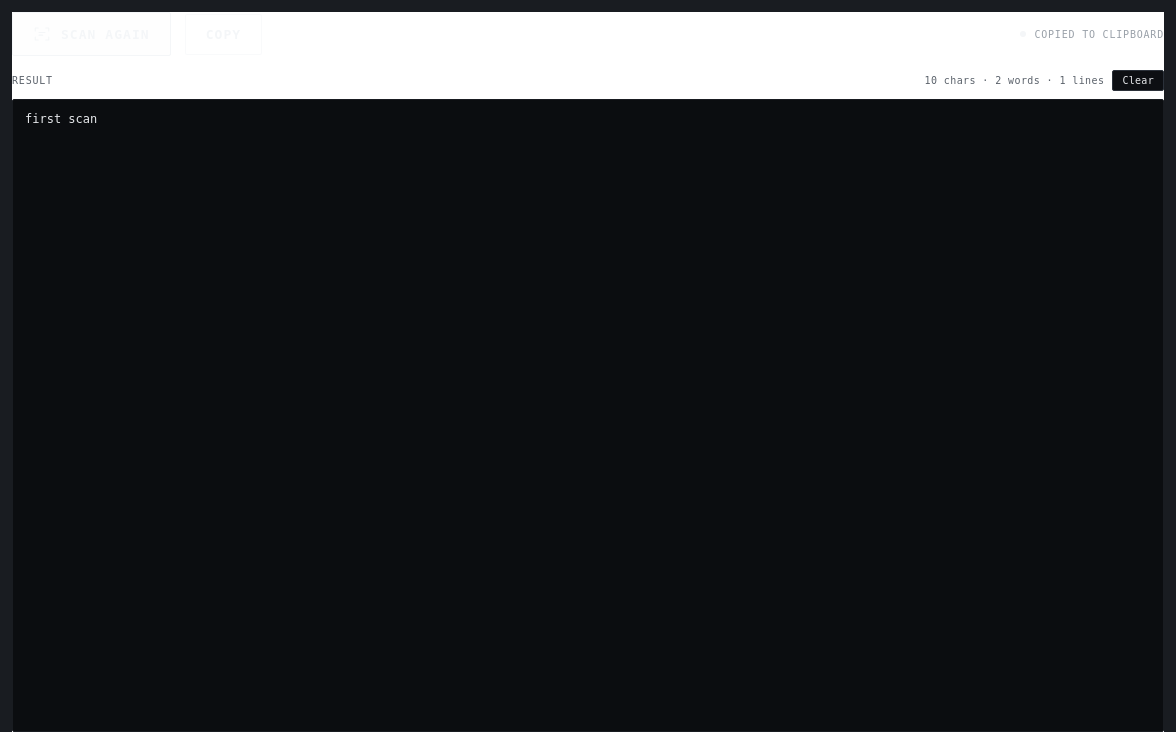
it: OcrPanel clearing › drops a pending prompt when a new scan lands
The width and height of the screenshot is (1176, 732).
Click the button "Clear" at (1138, 80), box [1112, 70, 1164, 91]
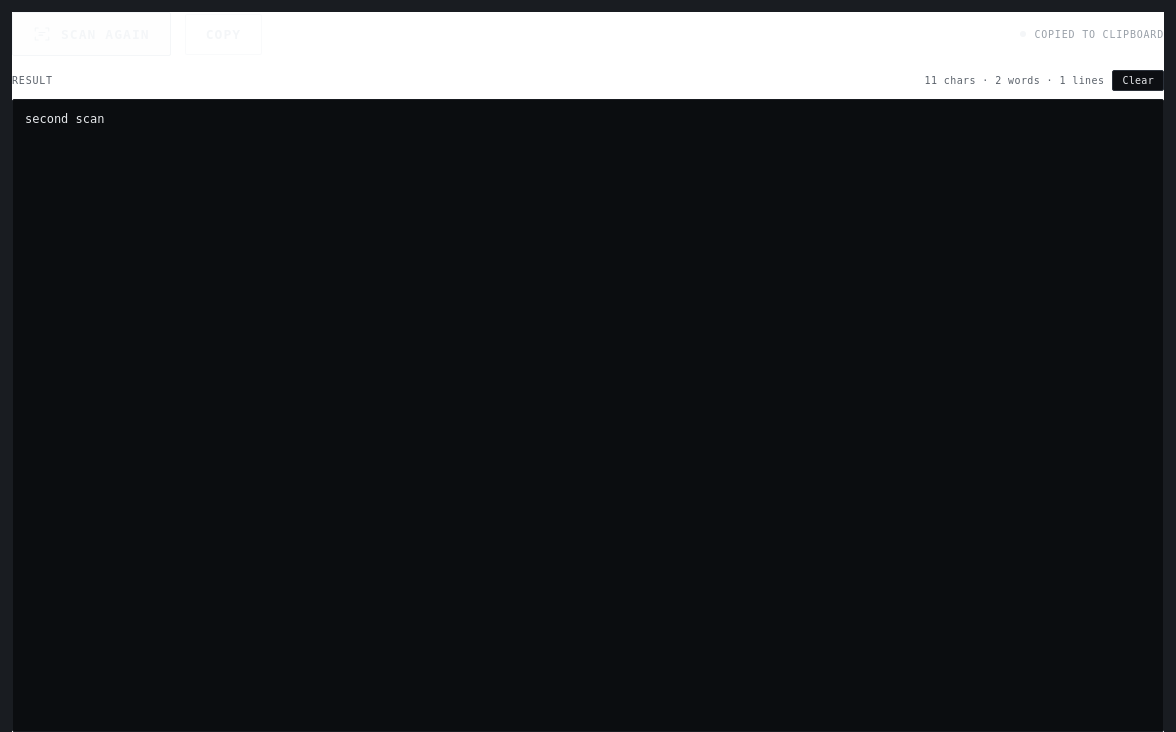
expect the text "DISCARD THIS SCAN?" is shown: met, box [925, 75, 1104, 86]
expect the text box showing "second scan" is shown: met
